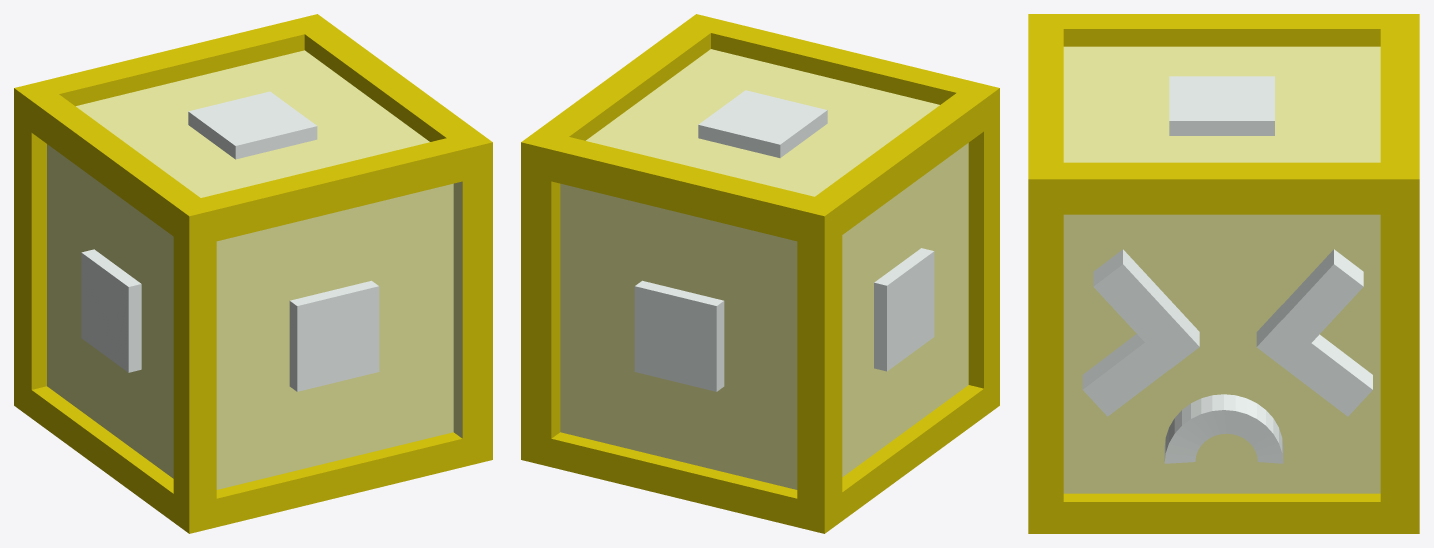
The model's file is GGYellow.fbx.
3 renders of one model, left to right at view 1: azimuth 30°, elevation 25°; view 2: azimuth 150°, elevation 25°; view 3: azimuth 270°, elevation 25°, orthographic. The views are drawn at different scales.
Parts seen in each view (by area): view 1: Body; view 2: Body; view 3: Body, Cube.011, Cube.012, Circle.002, Cube.013, Cube.014.
Boxes of the visible parts, x1=… form: Body: x1=14, y1=14, x2=492, y2=533; Body: x1=521, y1=14, x2=999, y2=533; Body: x1=1028, y1=14, x2=1419, y2=533; Cube.011: x1=1093, y1=249, x2=1199, y2=369; Cube.012: x1=1257, y1=249, x2=1363, y2=368; Circle.002: x1=1164, y1=394, x2=1283, y2=463; Cube.013: x1=1256, y1=305, x2=1372, y2=416; Cube.014: x1=1082, y1=321, x2=1197, y2=416.
Size of the model in its own units: 209 by 200 by 200.
